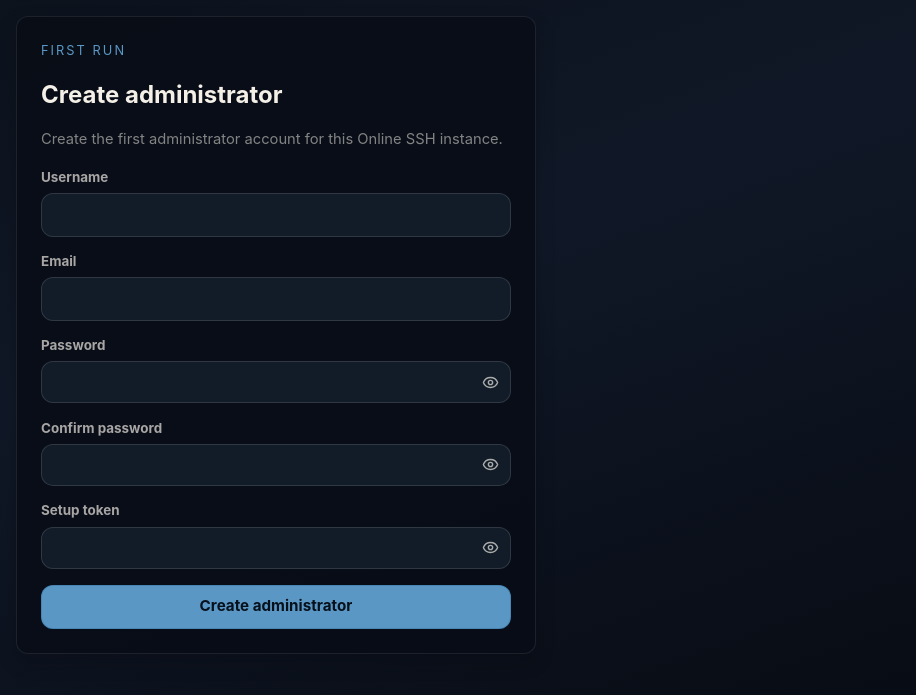
Test: SetupPage › uses shared eye-icon controls for password fields
expect the 1st icon with class "lucide-eye" is shown: met, box [482,374,498,391]
expect the 2nd button named "Show password" is empty: met, box [473,448,507,482]
Click the 1st button named "Show password" at {"x": 490, "y": 382}, box [473,365,507,399]
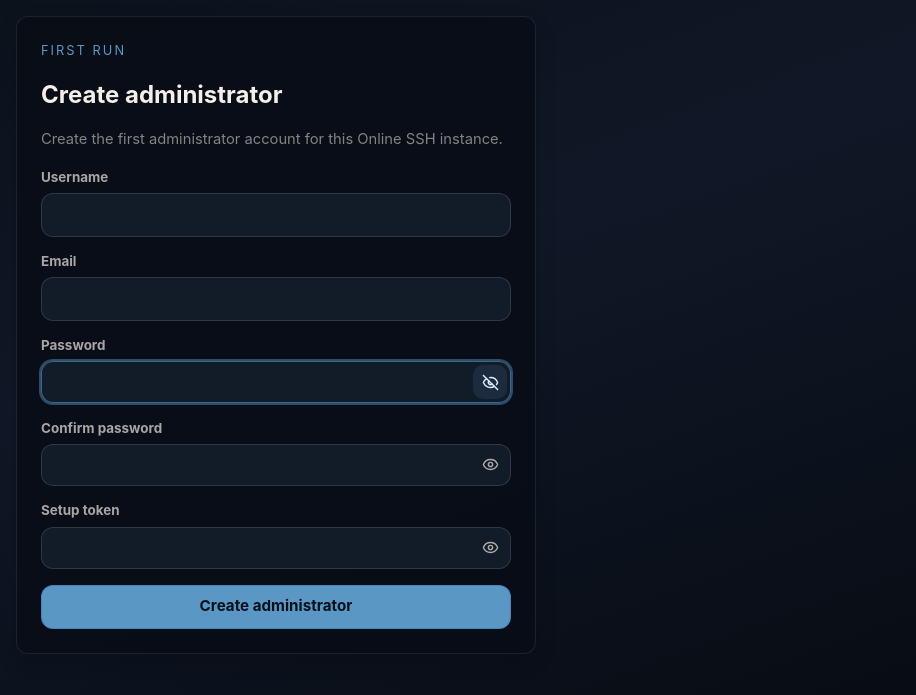
expect the button named "Hide password" is shown: met, box [473,365,507,399]
